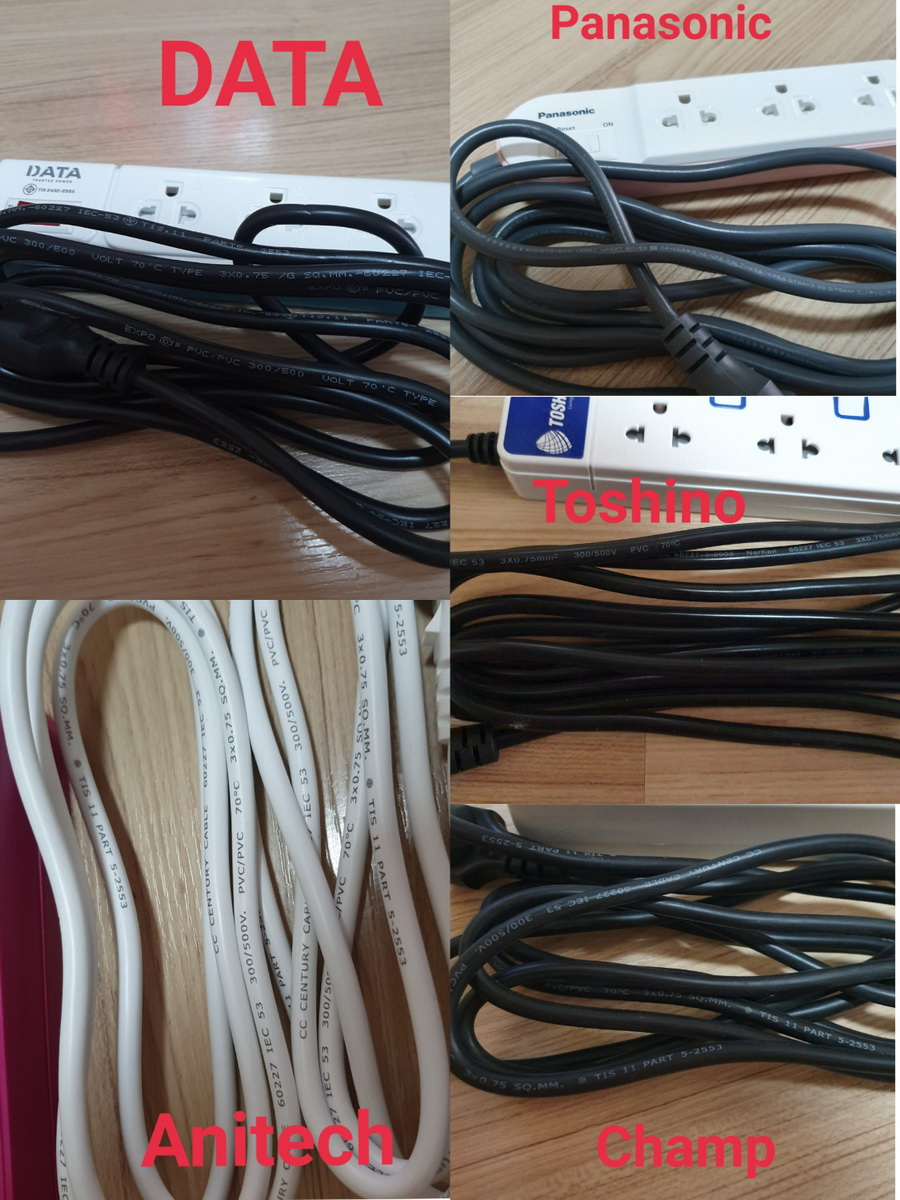Three_eye_plug: (4, 132, 457, 351), (466, 52, 900, 238), (467, 396, 900, 566)
